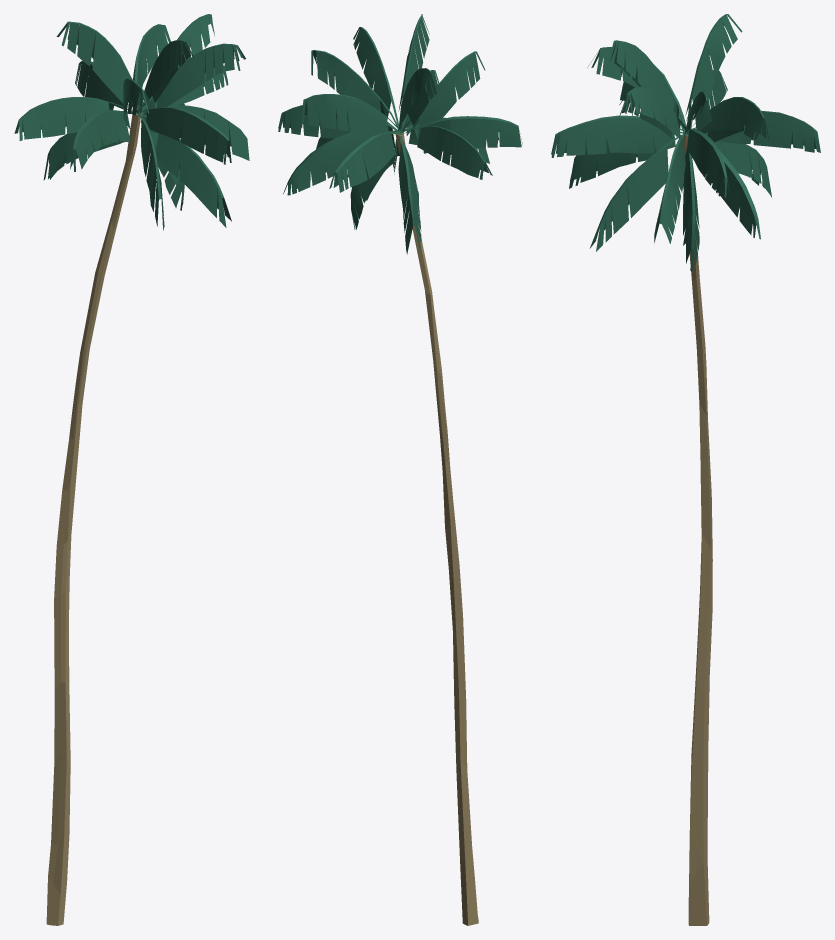
Rendered from tree_palm_nibong_F.fbx.
The picture shows the model from 3 angles, left to right: view 1: azimuth 30°, elevation 25°; view 2: azimuth 150°, elevation 25°; view 3: azimuth 270°, elevation 25°; orthographic projection. The views are drawn at different scales.
Parts seen in each view (by area): view 1: palm_nibong_trunk_F, leaf_palm_nebong_F_15, leaf_palm_nebong_F_13, leaf_palm_nebong_F_8, leaf_palm_nebong_F_1, leaf_palm_nebong_F_3, leaf_palm_nebong_F_12, leaf_palm_nebong_F_2, leaf_palm_nebong_F_11, leaf_palm_nebong_F_5, leaf_palm_nebong_F_10, leaf_palm_nebong_F_6 (+5 smaller); view 2: palm_nibong_trunk_F, leaf_palm_nebong_F_5, leaf_palm_nebong_F_16, leaf_palm_nebong_F_13, leaf_palm_nebong_F_12, leaf_palm_nebong_F_6, leaf_palm_nebong_F_7, leaf_palm_nebong_F_4, leaf_palm_nebong_F_3, leaf_palm_nebong_F_14, leaf_palm_nebong_F_1, leaf_palm_nebong_F_9 (+2 smaller); view 3: palm_nibong_trunk_F, leaf_palm_nebong_F_8, leaf_palm_nebong_F_15, leaf_palm_nebong_F_6, leaf_palm_nebong_F_5, leaf_palm_nebong_F_1, leaf_palm_nebong_F_2, leaf_palm_nebong_F_3, leaf_palm_nebong_F_10, leaf_palm_nebong_F_9, leaf_palm_nebong_F_11, leaf_palm_nebong_F_16 (+4 smaller).
Part boxes in pixels (x1,y1,x2,y2): palm_nibong_trunk_F: (46, 114, 140, 925); leaf_palm_nebong_F_15: (141, 114, 231, 227); leaf_palm_nebong_F_13: (14, 97, 127, 140); leaf_palm_nebong_F_8: (142, 107, 231, 164); leaf_palm_nebong_F_1: (56, 21, 138, 110); leaf_palm_nebong_F_3: (138, 43, 245, 111); leaf_palm_nebong_F_12: (70, 109, 140, 171); leaf_palm_nebong_F_2: (139, 39, 193, 112); leaf_palm_nebong_F_11: (137, 114, 164, 230); leaf_palm_nebong_F_5: (133, 24, 170, 110); leaf_palm_nebong_F_10: (141, 105, 249, 160); leaf_palm_nebong_F_6: (75, 61, 139, 112); palm_nibong_trunk_F: (395, 132, 478, 925); leaf_palm_nebong_F_5: (301, 94, 402, 139); leaf_palm_nebong_F_16: (283, 131, 398, 195); leaf_palm_nebong_F_13: (401, 125, 492, 179); leaf_palm_nebong_F_12: (398, 116, 522, 153); leaf_palm_nebong_F_6: (329, 130, 400, 192); leaf_palm_nebong_F_7: (402, 51, 485, 141); leaf_palm_nebong_F_4: (311, 50, 400, 134); leaf_palm_nebong_F_3: (353, 27, 399, 134); leaf_palm_nebong_F_14: (398, 136, 421, 254); leaf_palm_nebong_F_1: (398, 68, 440, 132); leaf_palm_nebong_F_9: (278, 105, 399, 138); palm_nibong_trunk_F: (683, 134, 712, 925); leaf_palm_nebong_F_8: (551, 115, 684, 157); leaf_palm_nebong_F_15: (589, 134, 683, 251); leaf_palm_nebong_F_6: (694, 110, 820, 152); leaf_palm_nebong_F_5: (691, 97, 769, 142); leaf_palm_nebong_F_1: (685, 14, 742, 133); leaf_palm_nebong_F_2: (608, 40, 684, 130); leaf_palm_nebong_F_3: (619, 87, 687, 139); leaf_palm_nebong_F_10: (654, 134, 686, 243); leaf_palm_nebong_F_9: (686, 128, 729, 197); leaf_palm_nebong_F_11: (569, 131, 683, 188); leaf_palm_nebong_F_16: (686, 134, 760, 239).
Size of the model in its own units: 237 by 933 by 246.
